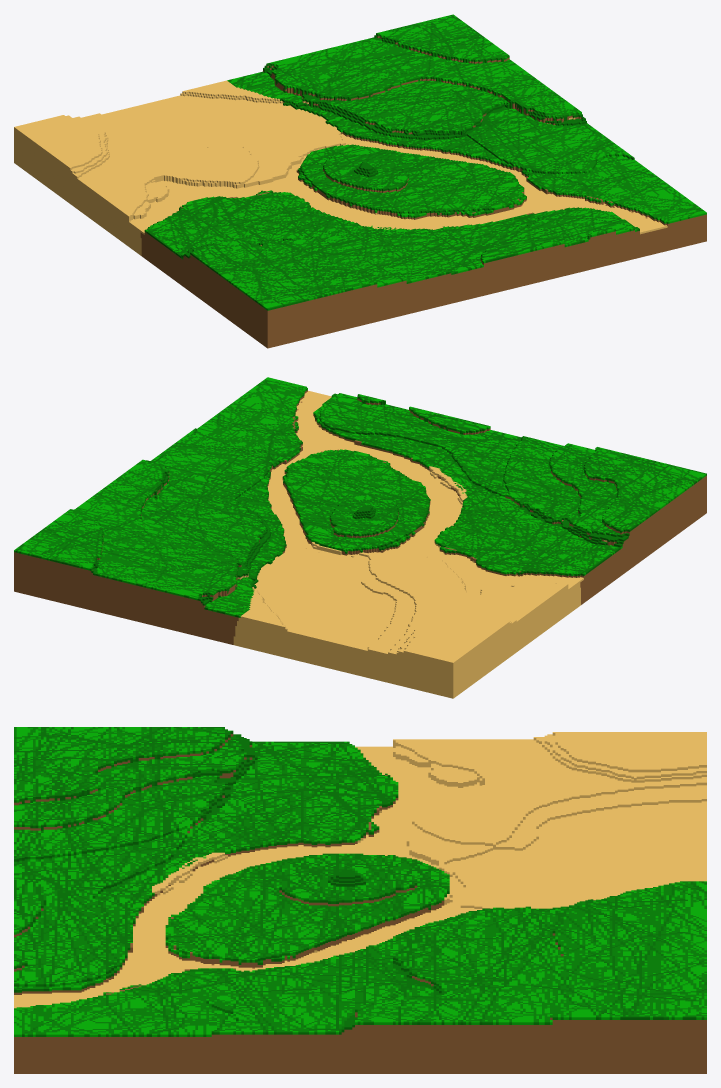
The model's file is map2.glb.
3 views of the same model, one above another, from view 1: azimuth 30°, elevation 25°; view 2: azimuth 150°, elevation 25°; view 3: azimuth 270°, elevation 25° (orthographic). The views are drawn at different scales.
Visible parts, largest first — view 1: Node1; view 2: Node1; view 3: Node1.
Part boxes in pixels (x1,y1,x2,y2): Node1: [14, 14, 706, 348]; Node1: [14, 377, 706, 698]; Node1: [14, 727, 706, 1073].
Bounding box in the file's own units: 25.6 × 2.3 × 25.6.
1 material, 1 textured.
